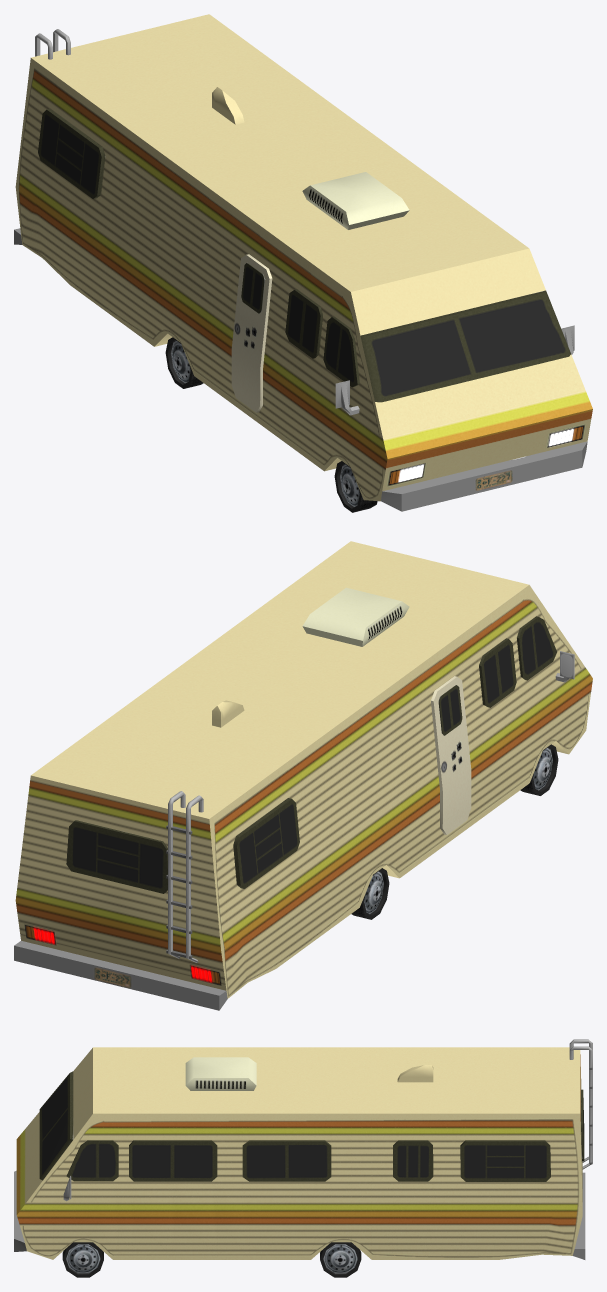
File: Scenery-breaking_bad_rv.glb
3 views of the same model, one above another, from view 1: azimuth 30°, elevation 25°; view 2: azimuth 150°, elevation 25°; view 3: azimuth 270°, elevation 25° (orthographic). The views are drawn at different scales.
Parts seen in each view (by area): view 1: pasted__pCylinder6; view 2: pasted__pCylinder6; view 3: pasted__pCylinder6.
Boxes of the visible parts, left/top/right/bottom form: pasted__pCylinder6: left=14, top=14, right=592, bottom=512; pasted__pCylinder6: left=14, top=541, right=592, bottom=1010; pasted__pCylinder6: left=14, top=1039, right=592, bottom=1277.
Size of the model in its own units: 0.0455 by 0.0421 by 0.1254.
Materials: 1 (1 with a texture image).
